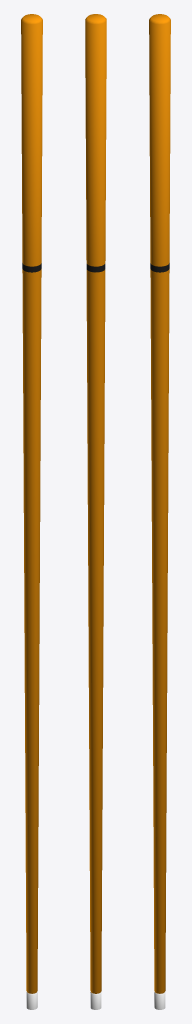
File: cue.fbx
3 renders of one model, left to right at view 1: azimuth 90°, elevation 25°; view 2: azimuth 150°, elevation 25°; view 3: azimuth 270°, elevation 25°, orthographic.
Visible parts, largest first — view 1: cue; view 2: cue; view 3: cue.
Boxes of the visible parts, box(x1,y1,x2,y2) form: cue: box(21, 14, 42, 1009); cue: box(85, 14, 106, 1009); cue: box(149, 14, 170, 1009).
Size of the model in its own units: 0.028 by 1.4 by 0.028.
